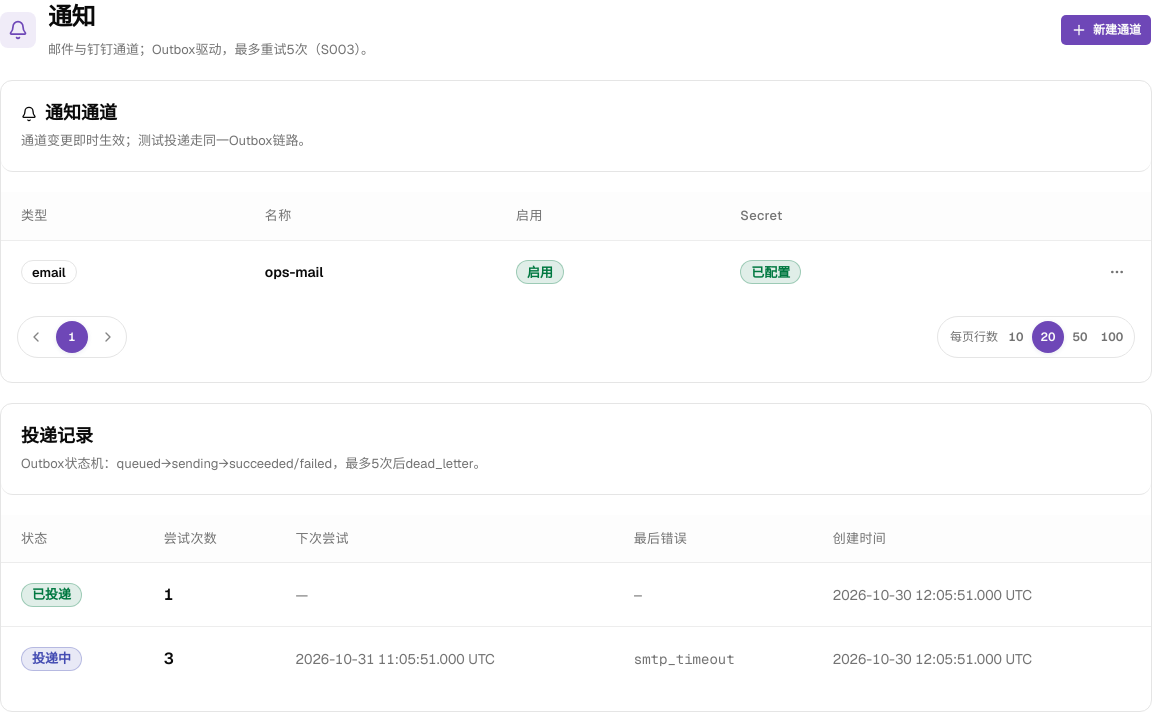
it: provider and channel dialogs use shadcn form controls › renders channel kind, TLS and enabled through shared primitives
The width and height of the screenshot is (1152, 720).
Step 1. Click the button with test id "admin-notifications-create" → [1106, 30], box top-left (1060, 14), bottom-right (1151, 46)
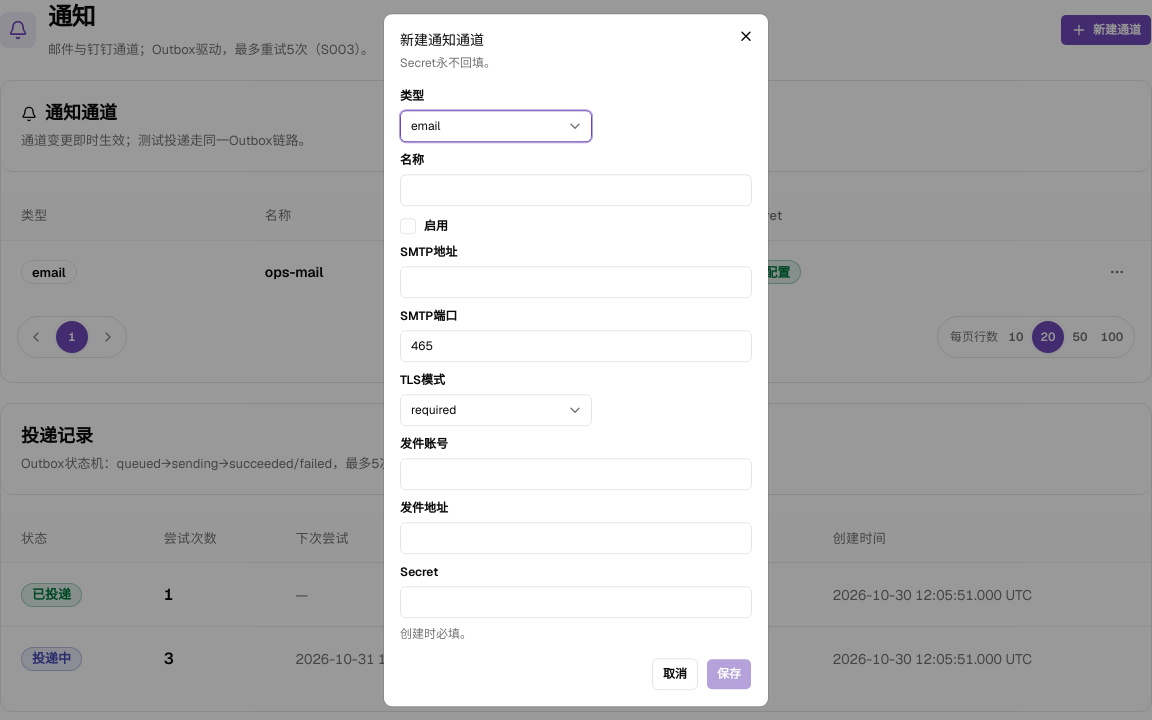
Step 2. Click the checkbox with test id "channel-enabled" → [408, 226], box top-left (400, 218), bottom-right (416, 234)
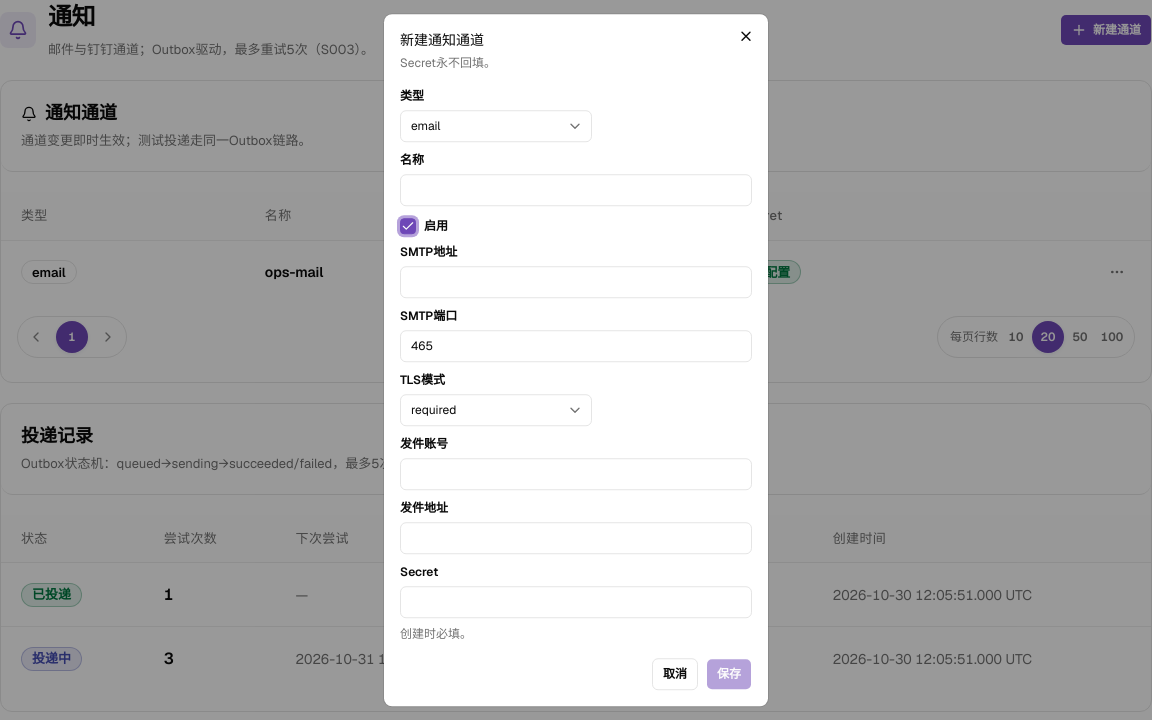
Expected: the checkbox with test id "channel-enabled" does not have attribute aria-checked="false", top-left (400, 218), bottom-right (416, 234)
Step 3. Click the dropdown with test id "channel-kind" → [496, 126], box top-left (400, 110), bottom-right (592, 142)
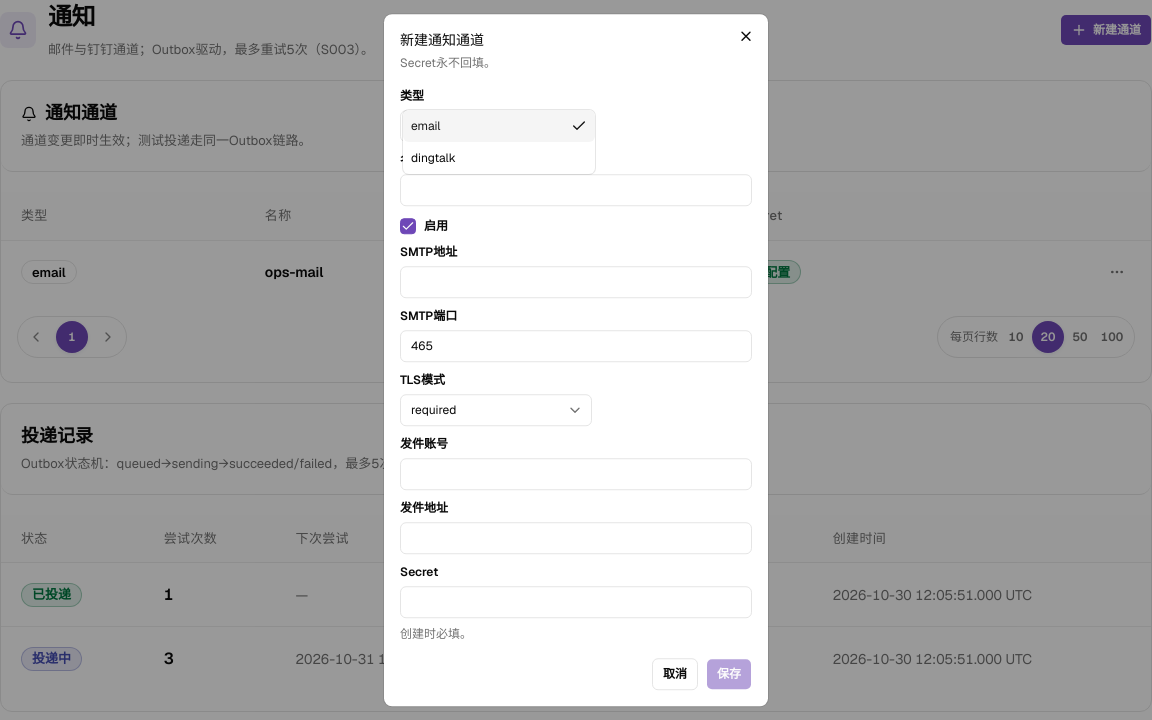
Step 4. Click the option "dingtalk" → [433, 158], box top-left (411, 150), bottom-right (456, 166)
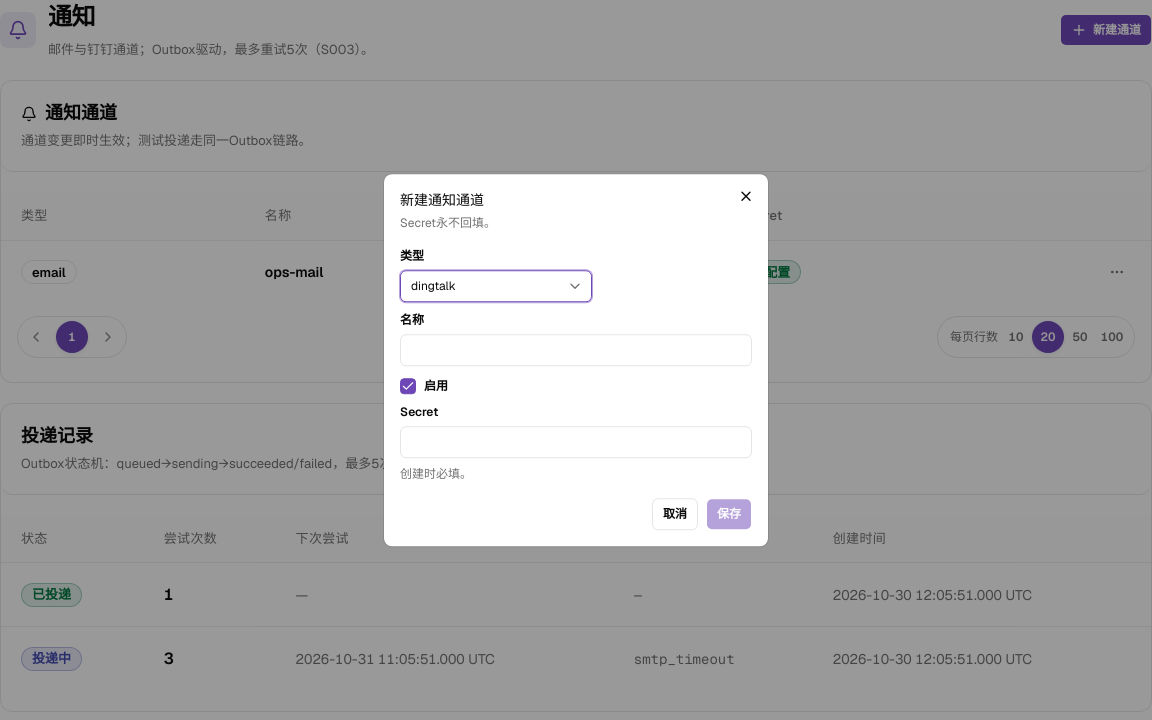
Expected: the label with test id "channel-host" is gone
